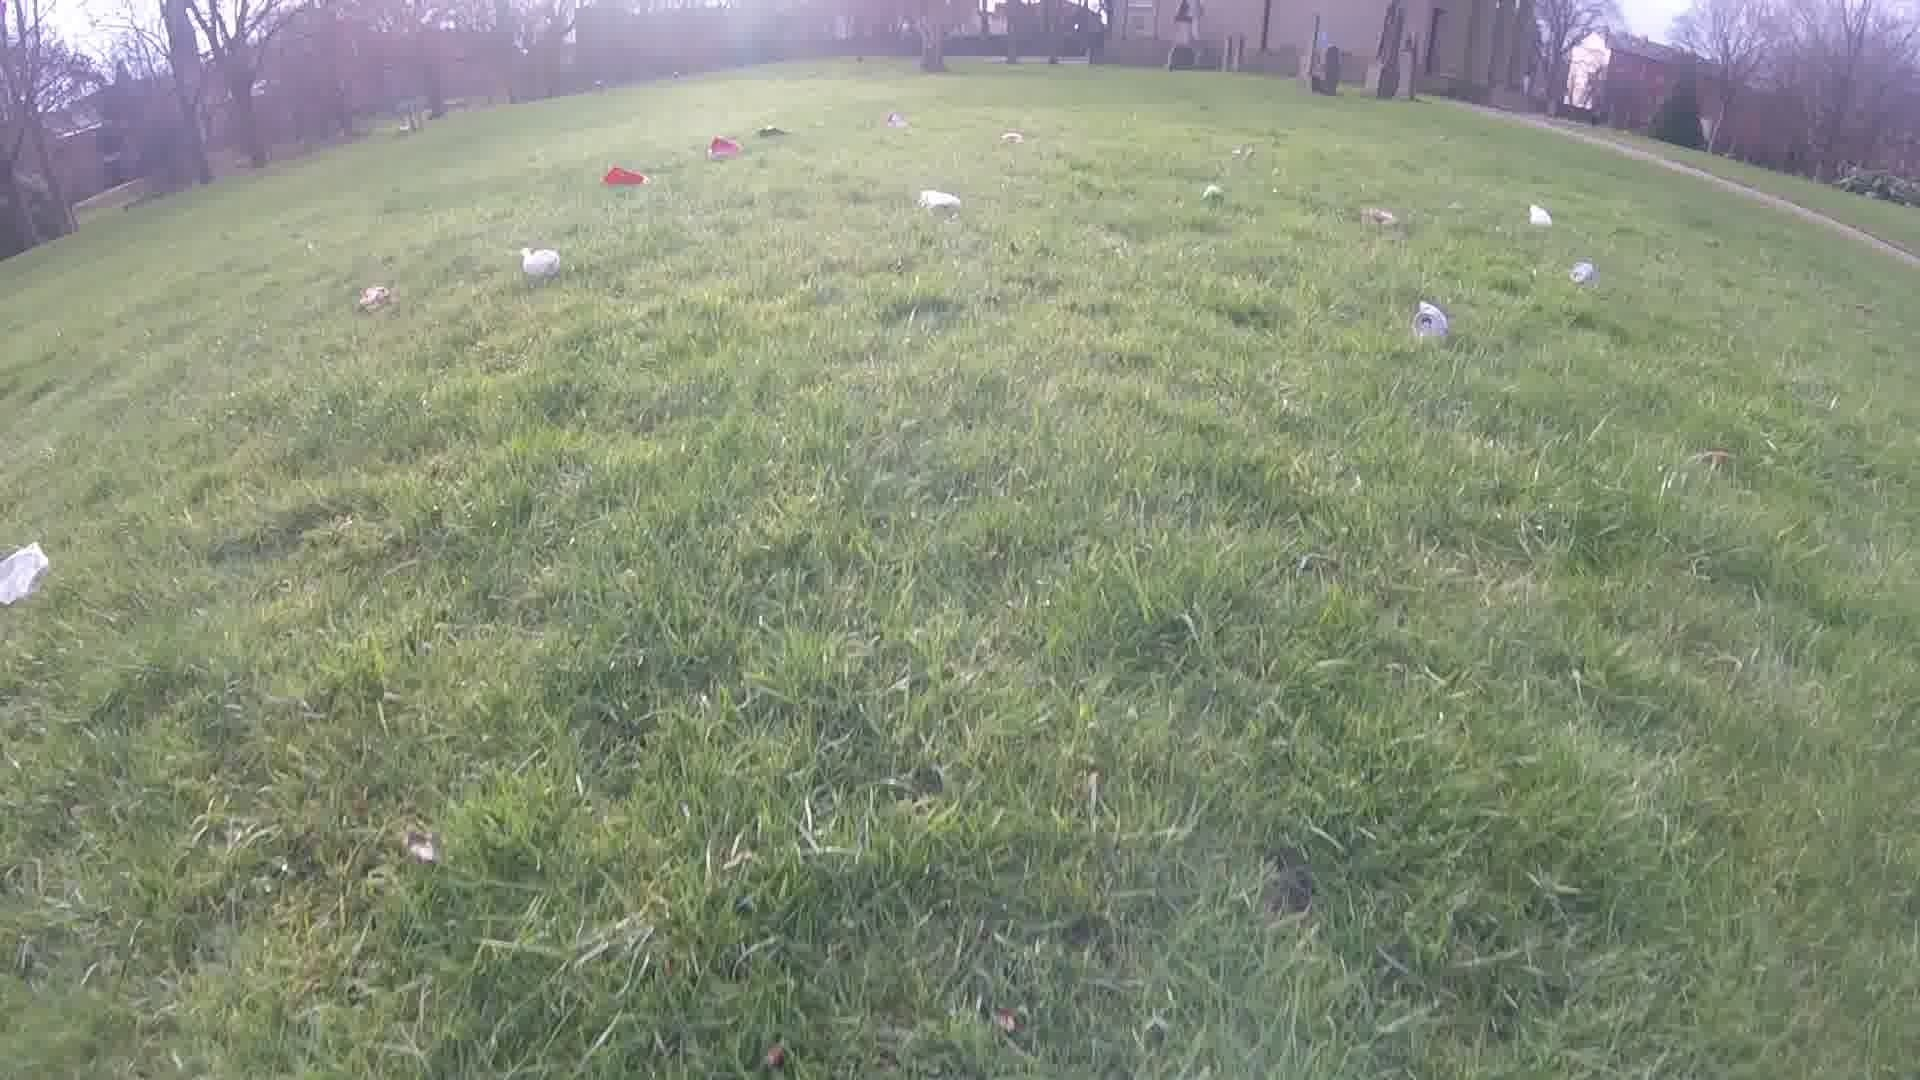litter: (0, 543, 50, 609), (516, 245, 560, 281), (1408, 298, 1448, 338), (357, 281, 392, 316), (599, 167, 651, 189), (916, 189, 965, 211), (1526, 203, 1556, 229), (703, 135, 740, 156), (1356, 208, 1400, 225), (1567, 261, 1594, 285), (752, 123, 793, 138), (880, 113, 903, 131), (996, 133, 1025, 142), (1226, 148, 1251, 158), (1200, 185, 1224, 195)
